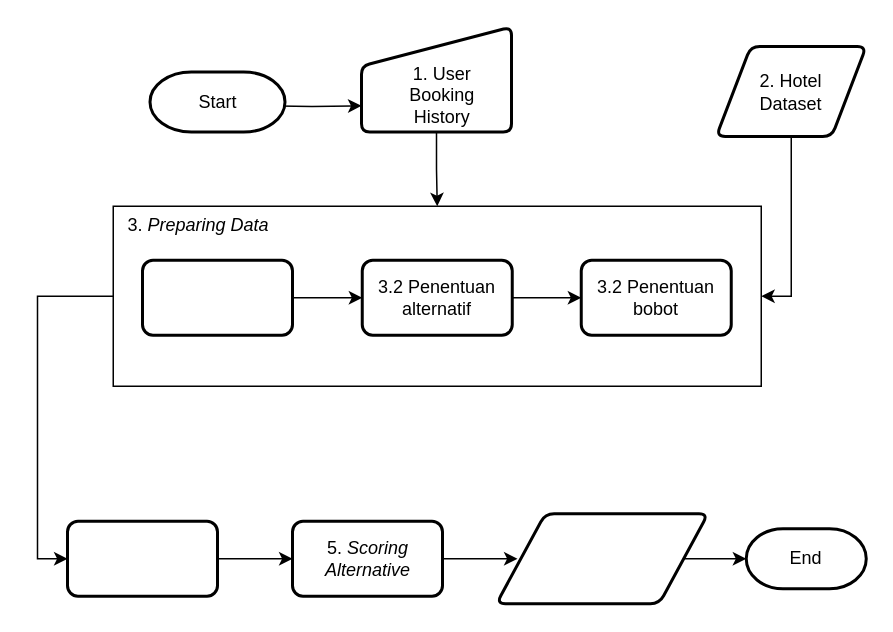
This 893x632 diagram has some shape labels left out. The shapes that lost their labels are listed below. From the top down, each one's centre as x and y in pixels, then its label:
the point at 216,297: 3.1 Penentuan attribut
the point at 141,558: 4. Normalisasi Matriks
the point at 601,558: 6. Recommendation
